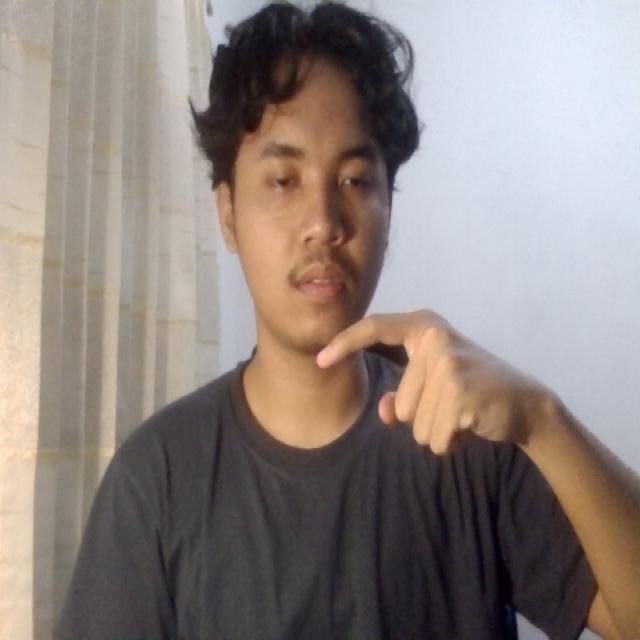N: (281, 290, 503, 467)
